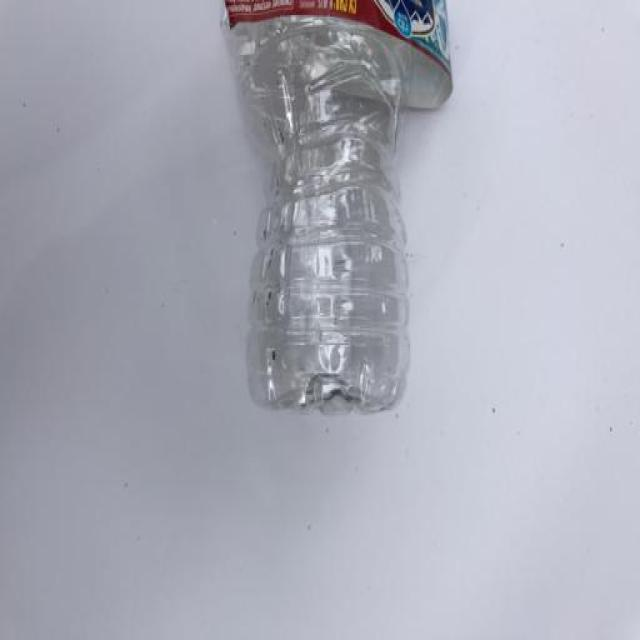plastic: (216, 0, 454, 419)
